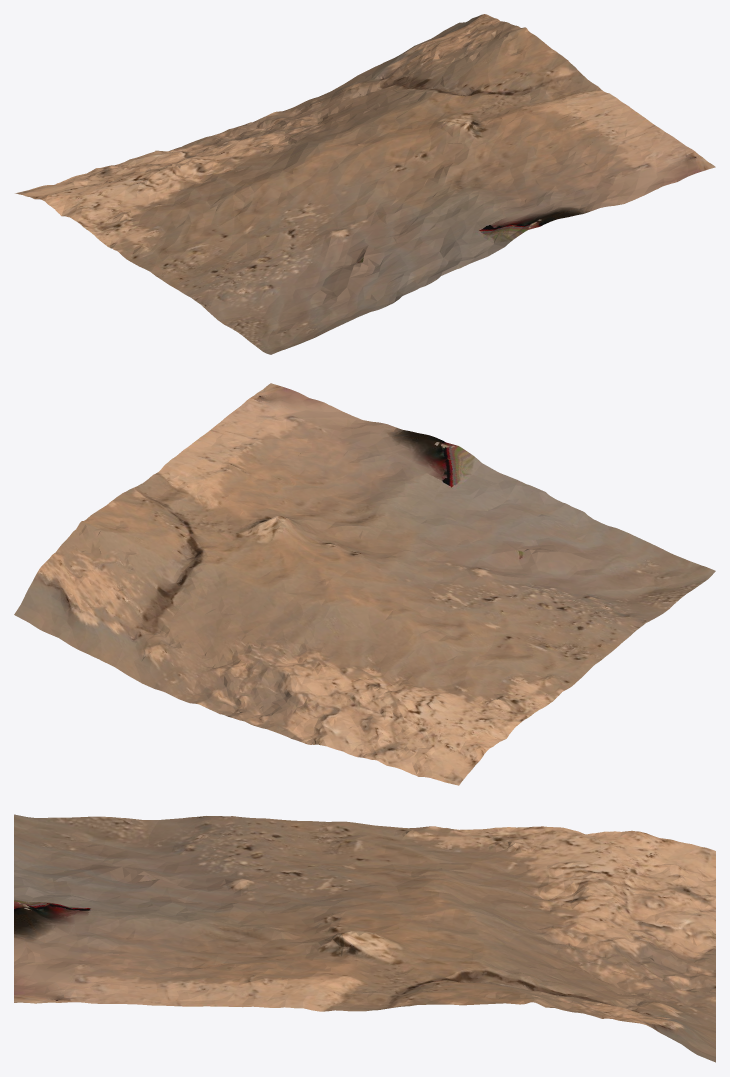
3 views of the same model, one above another, from view 1: azimuth 30°, elevation 25°; view 2: azimuth 150°, elevation 25°; view 3: azimuth 270°, elevation 25° (orthographic). The views are drawn at different scales.
Size of the model in its own units: 1.04 by 0.2411 by 1.04.
Materials: 2 (2 with a texture image).
